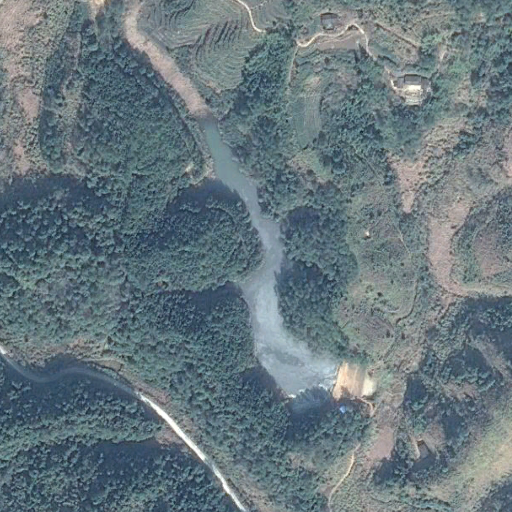tp: (168, 113, 374, 420)
